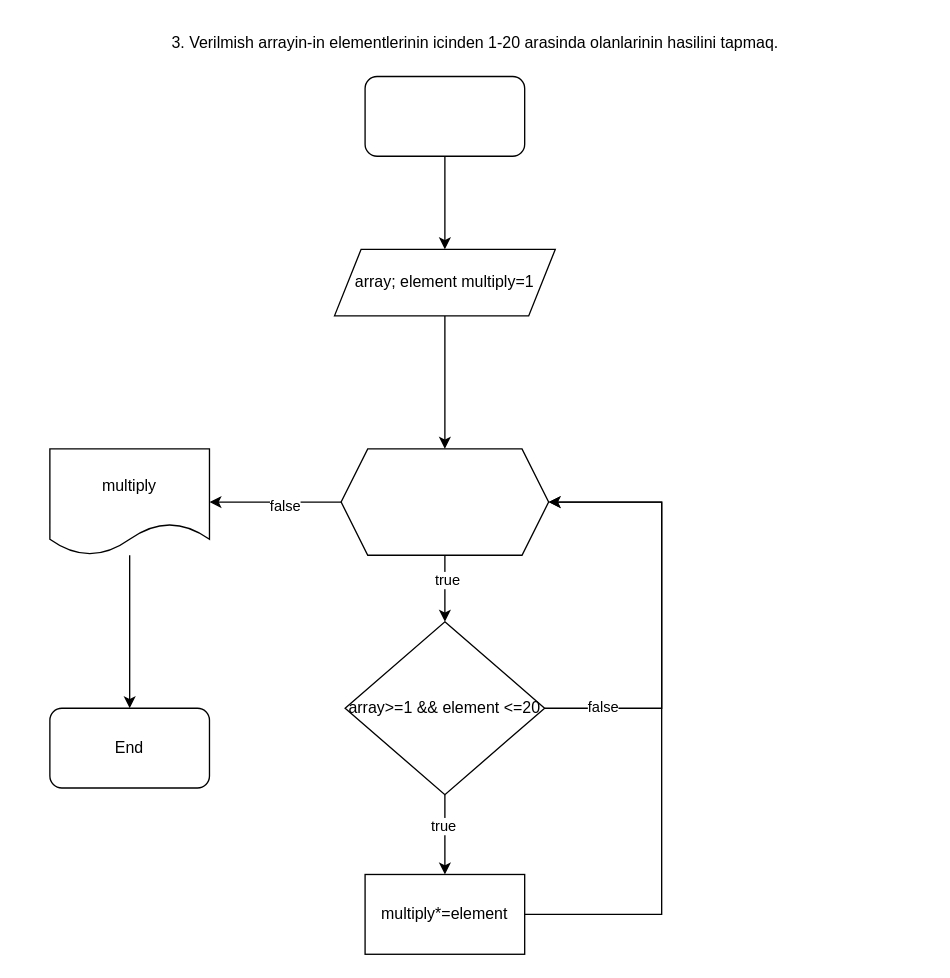
Some shapes in this 950 by 978 pixel diagram are drawn without their labels. Each missing label, with the centre of its shape:
"int array in element" belongs at [444,501].
"Start" belongs at [444,115].
